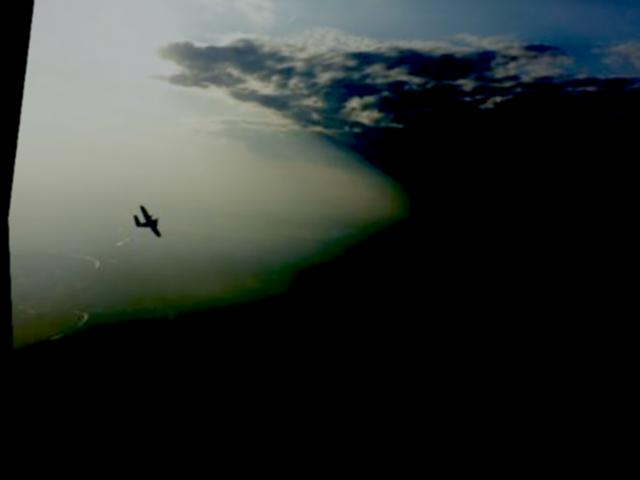uav: (127, 202, 166, 250)
